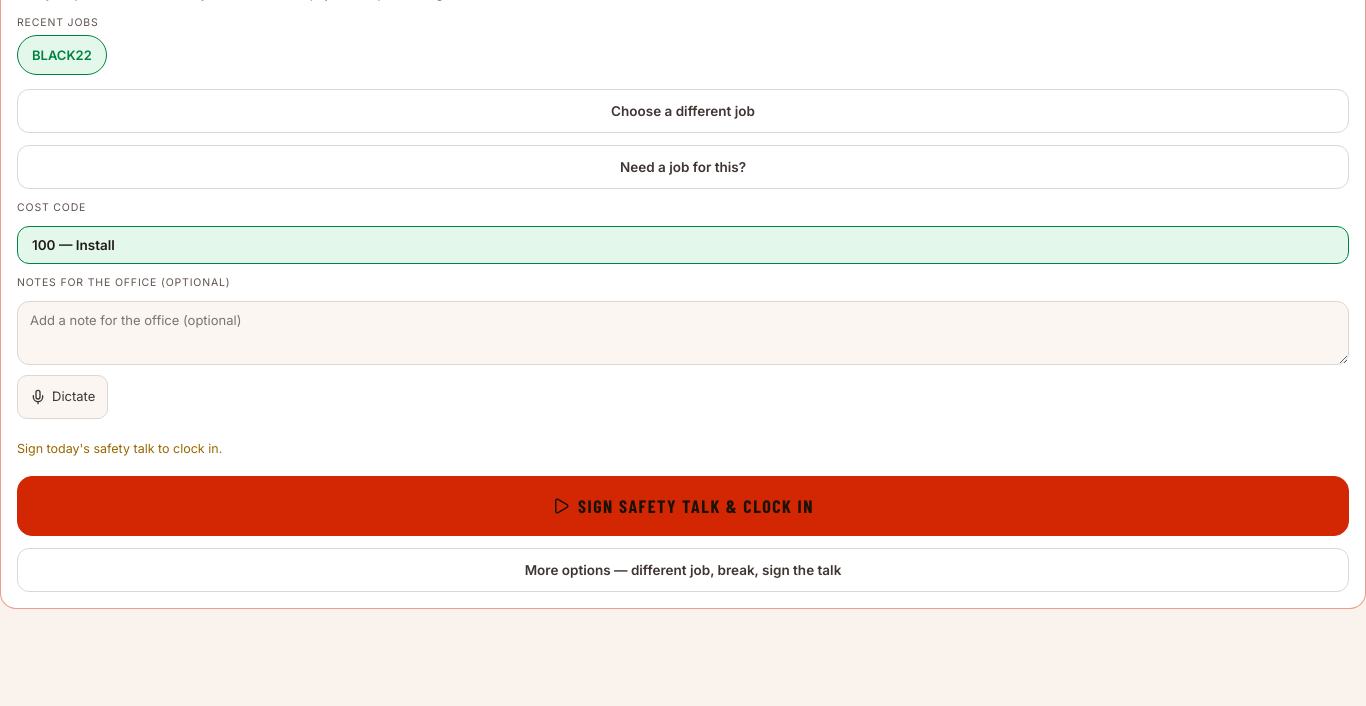
the clock-in block › takes the talk away again when a job switch clears the cost code, and brings it back once one is picked
Click the button with class "big" at (683,506), box [17,476,1349,536]
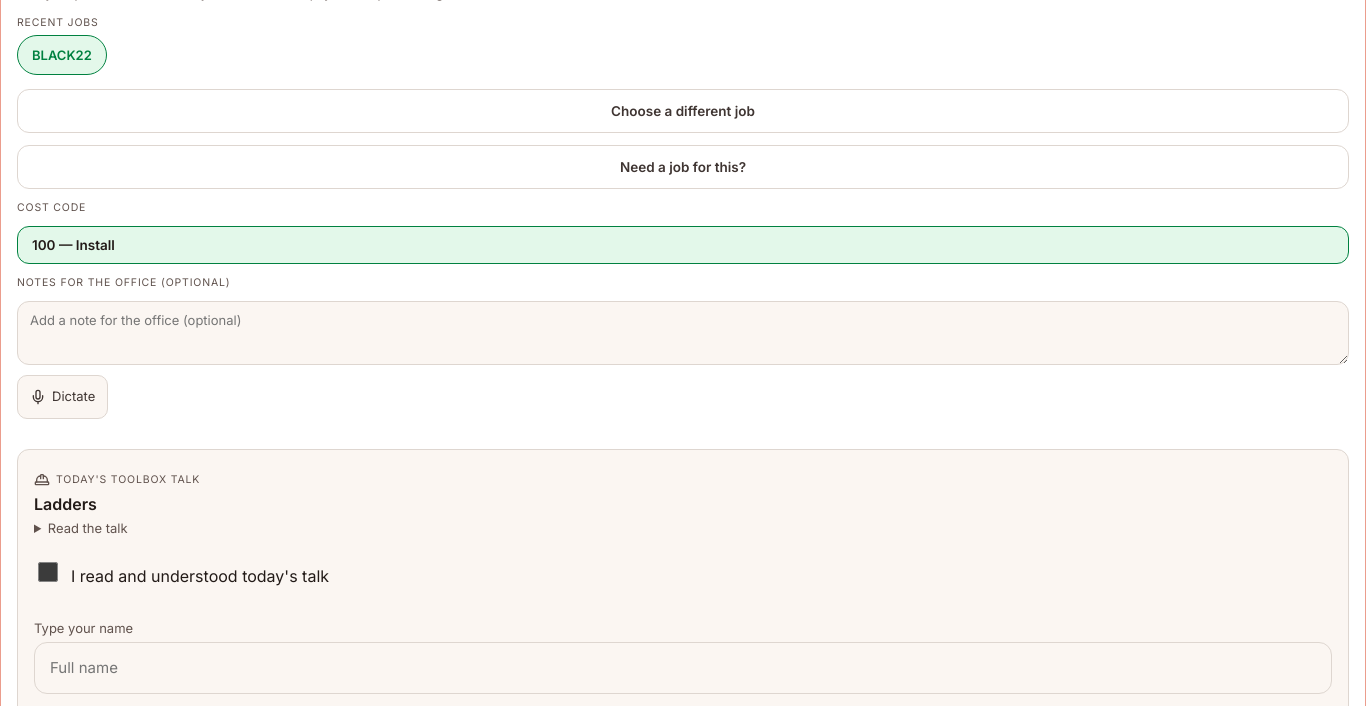
Click the button with class "clock-list-toggle" showing "Choose a different job" at (683,111), box [17,89,1349,133]
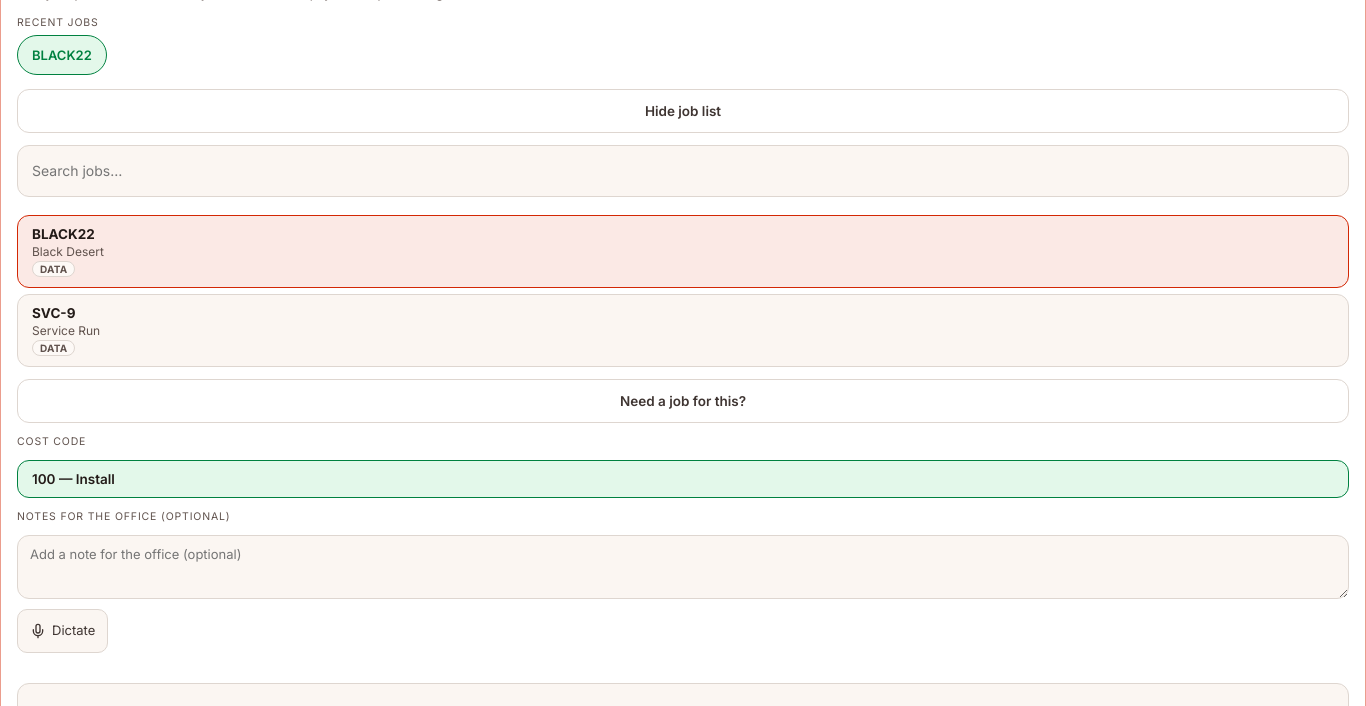
Click the button with class "clock-project-item" showing "SVC-9 Service Run Data" at (54,313), box [17,294,1349,367]
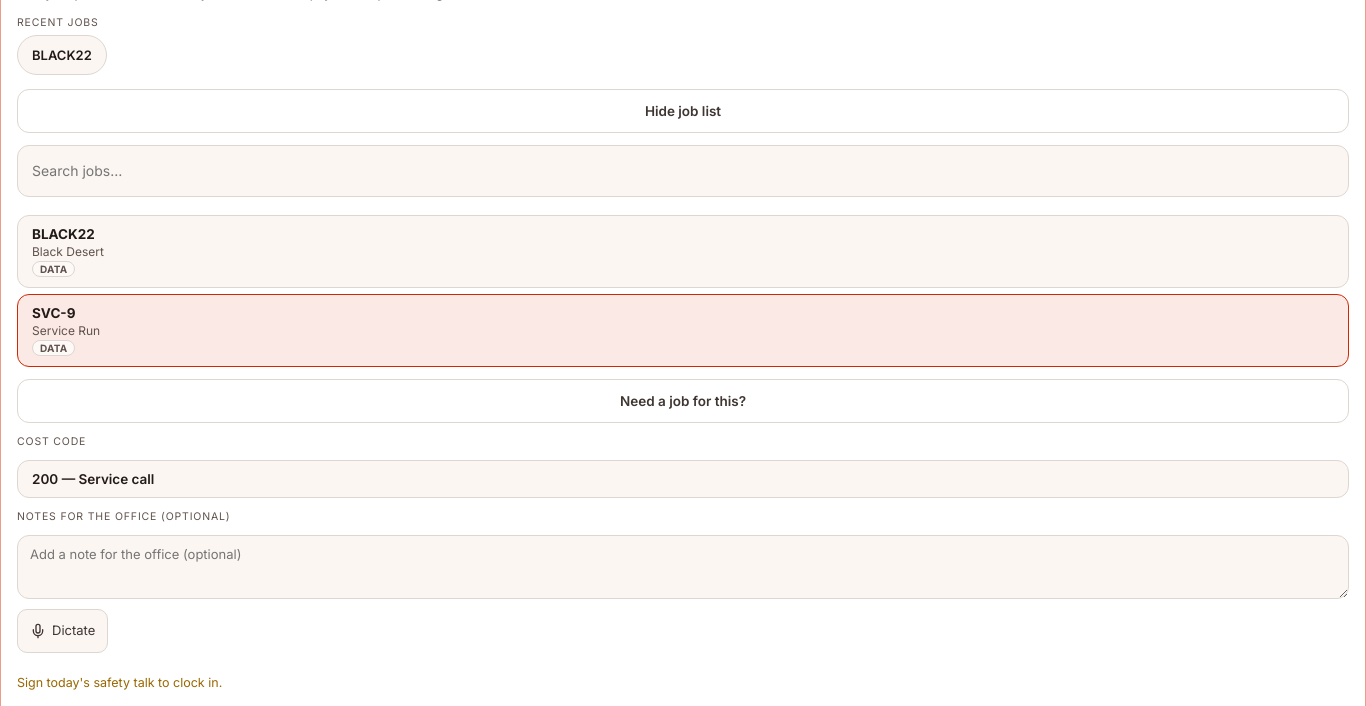
Check: the button "100 — Install" is gone
Click the button with class "clock-costcode-item" at (116,479), box [17,460,1349,498]
(page scrolled)
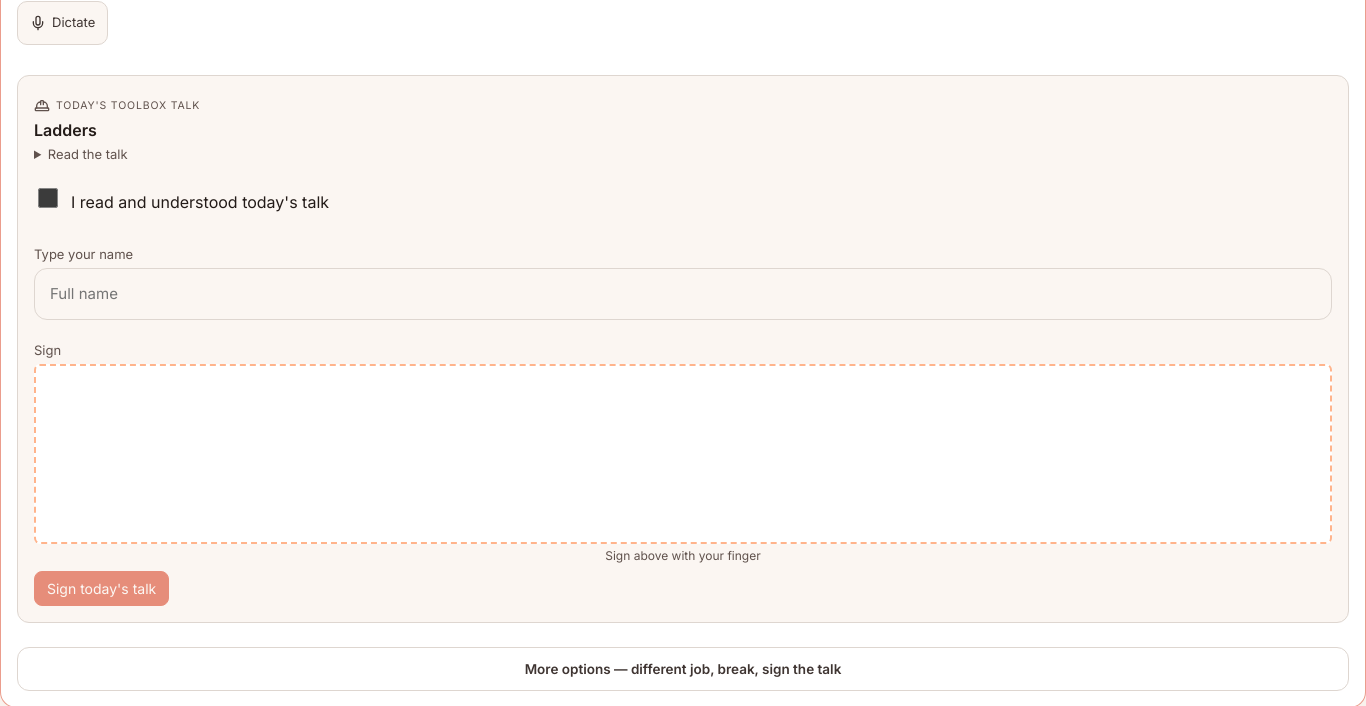
Check: the drawing with class "sig-canvas" is shown, box [34,364,1332,544]
